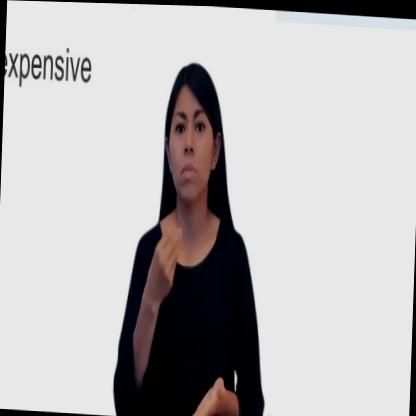Expensive: (127, 223, 250, 416)
